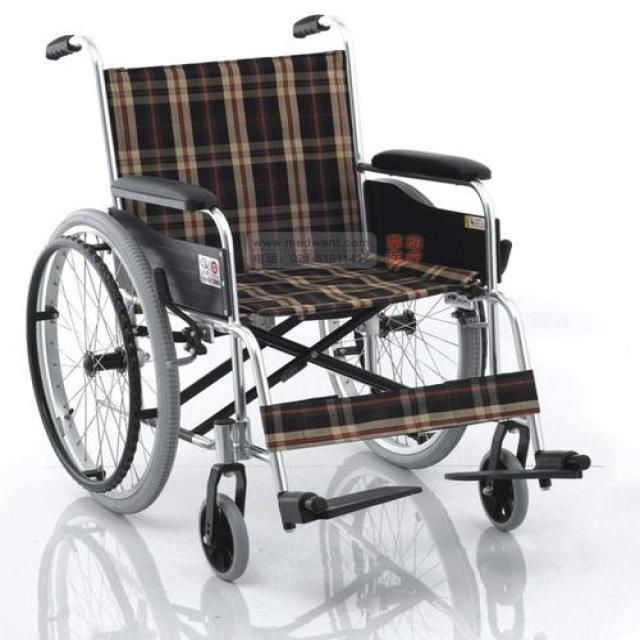wheelchairs: (11, 6, 602, 586)
